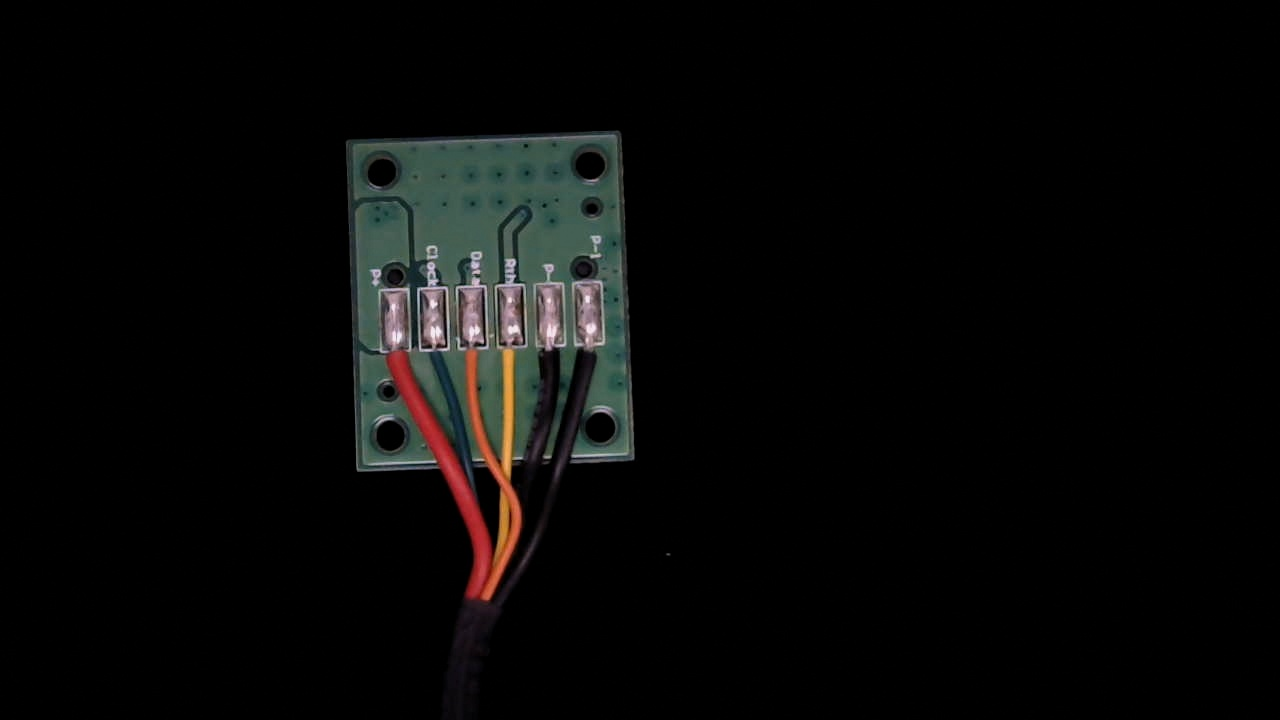Black: (537, 329, 565, 394)
Black1: (576, 328, 607, 388)
Green: (418, 331, 447, 396)
Orange: (457, 330, 485, 394)
Red: (380, 333, 414, 404)
Yellow: (497, 330, 528, 393)
